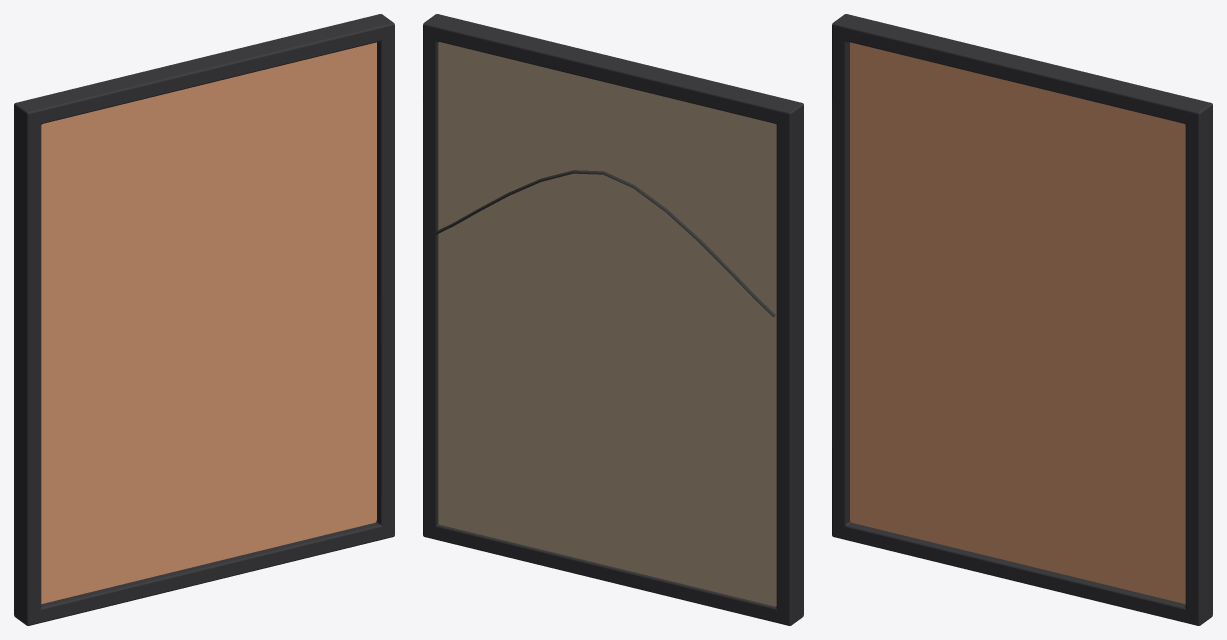
Rendered from furniture_picture_frame_b.fbx.
The picture shows the model from 3 angles, left to right: view 1: azimuth 30°, elevation 25°; view 2: azimuth 150°, elevation 25°; view 3: azimuth 330°, elevation 25°; orthographic projection.
Parts seen in each view (by area): view 1: furniture_picture_frame_b; view 2: furniture_picture_frame_b; view 3: furniture_picture_frame_b.
Part boxes in pixels (x1=…): furniture_picture_frame_b: x1=14, y1=14, x2=394, y2=625; furniture_picture_frame_b: x1=423, y1=14, x2=803, y2=625; furniture_picture_frame_b: x1=832, y1=14, x2=1212, y2=625.
Bounding box in the file's own units: 0.3 × 0.4 × 0.0252.
